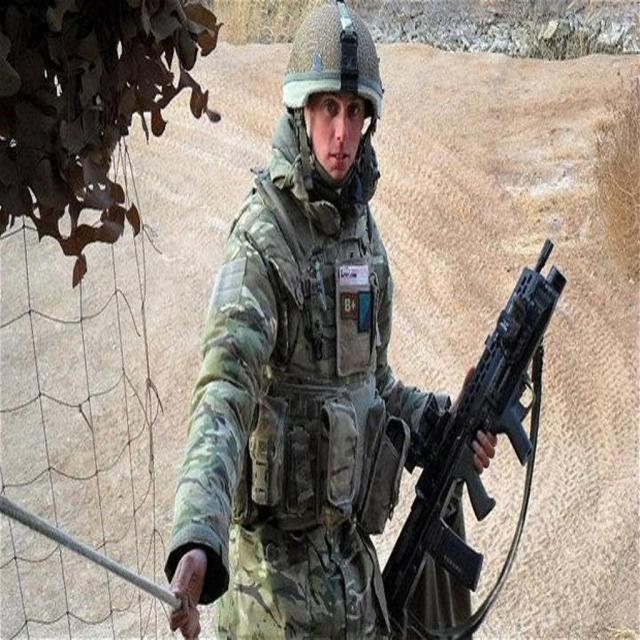Face: (298, 72, 380, 185)
